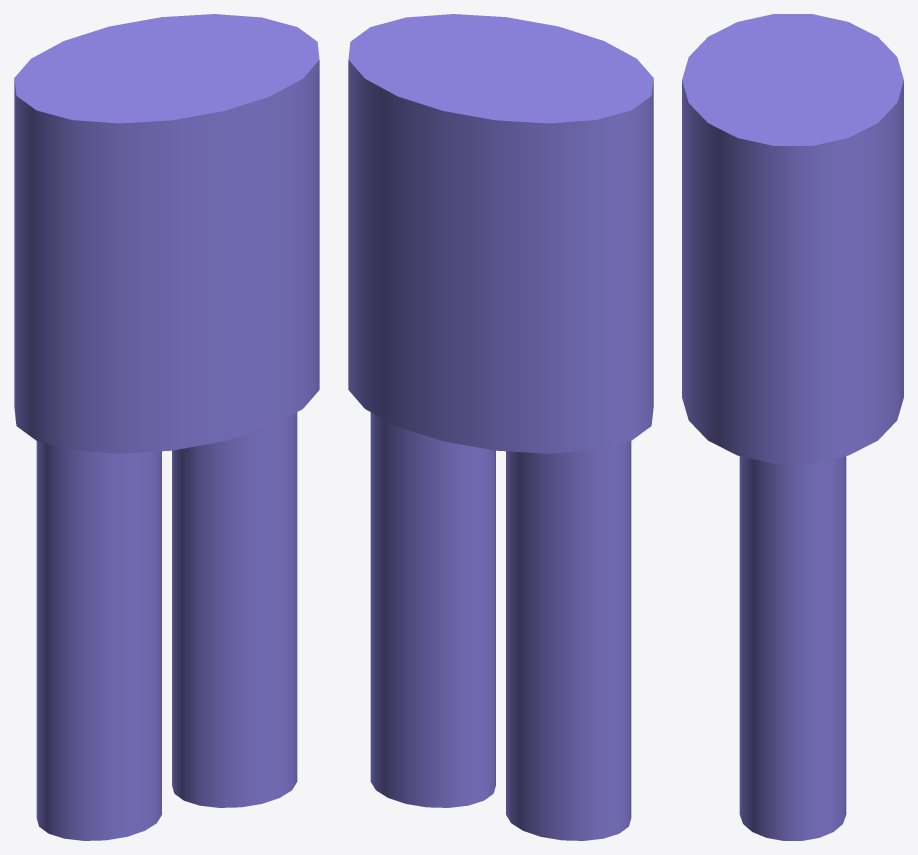
The model's file is VM-DAM-SH37647840.glb.
The picture shows the model from 3 angles, left to right: view 1: azimuth 30°, elevation 25°; view 2: azimuth 150°, elevation 25°; view 3: azimuth 270°, elevation 25°; orthographic projection. The views are drawn at different scales.
Parts seen in each view (by area): view 1: Medias Veladas de Colores; view 2: Medias Veladas de Colores; view 3: Medias Veladas de Colores.
Boxes of the visible parts, box(x1,y1,x2,y2) form: Medias Veladas de Colores: box(14, 14, 319, 840); Medias Veladas de Colores: box(348, 14, 653, 840); Medias Veladas de Colores: box(682, 14, 903, 840).
Bounding box in the file's own units: 0.3705 × 0.9207 × 0.2633.
